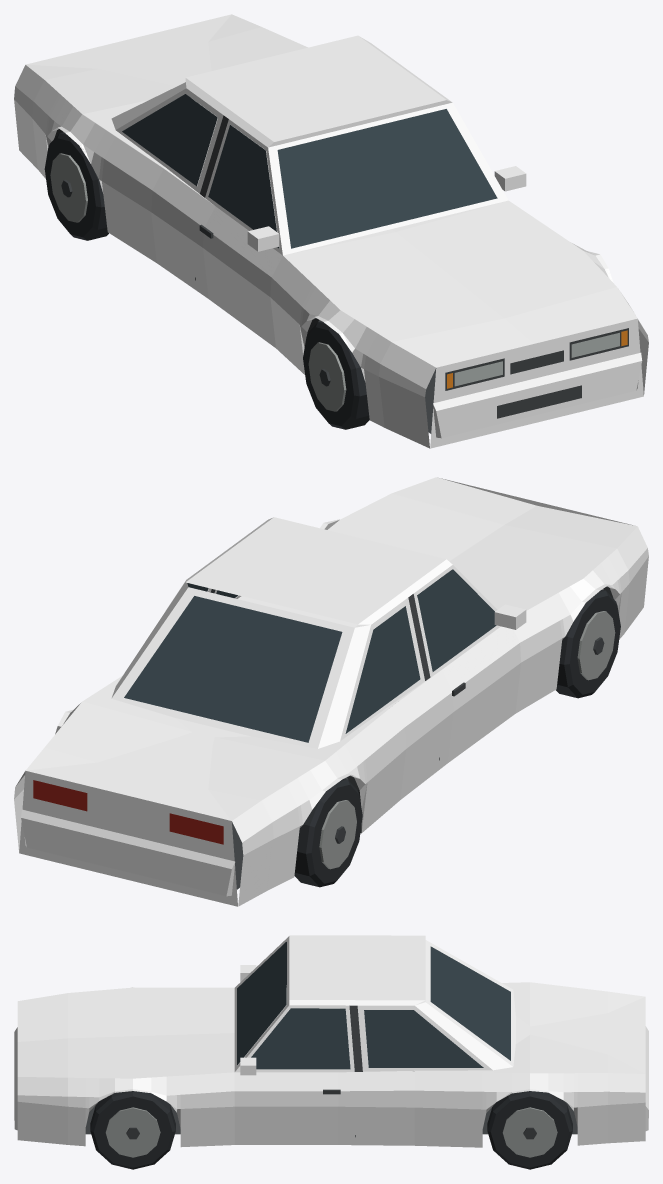
The model's file is mizuchi_arashi.glb.
3 renders of one model, top to bottom at view 1: azimuth 30°, elevation 25°; view 2: azimuth 150°, elevation 25°; view 3: azimuth 270°, elevation 25°, orthographic. The views are drawn at different scales.
Visible parts, largest first — view 1: mizuchi_arashi; view 2: mizuchi_arashi; view 3: mizuchi_arashi.
Boxes of the visible parts, x1,y1,x2,y2 form: mizuchi_arashi: [14, 14, 648, 448]; mizuchi_arashi: [14, 477, 648, 906]; mizuchi_arashi: [14, 935, 648, 1169].
Size of the model in its own units: 1.82 by 1.25 by 4.7.
Materials: 8 (1 with a texture image).
